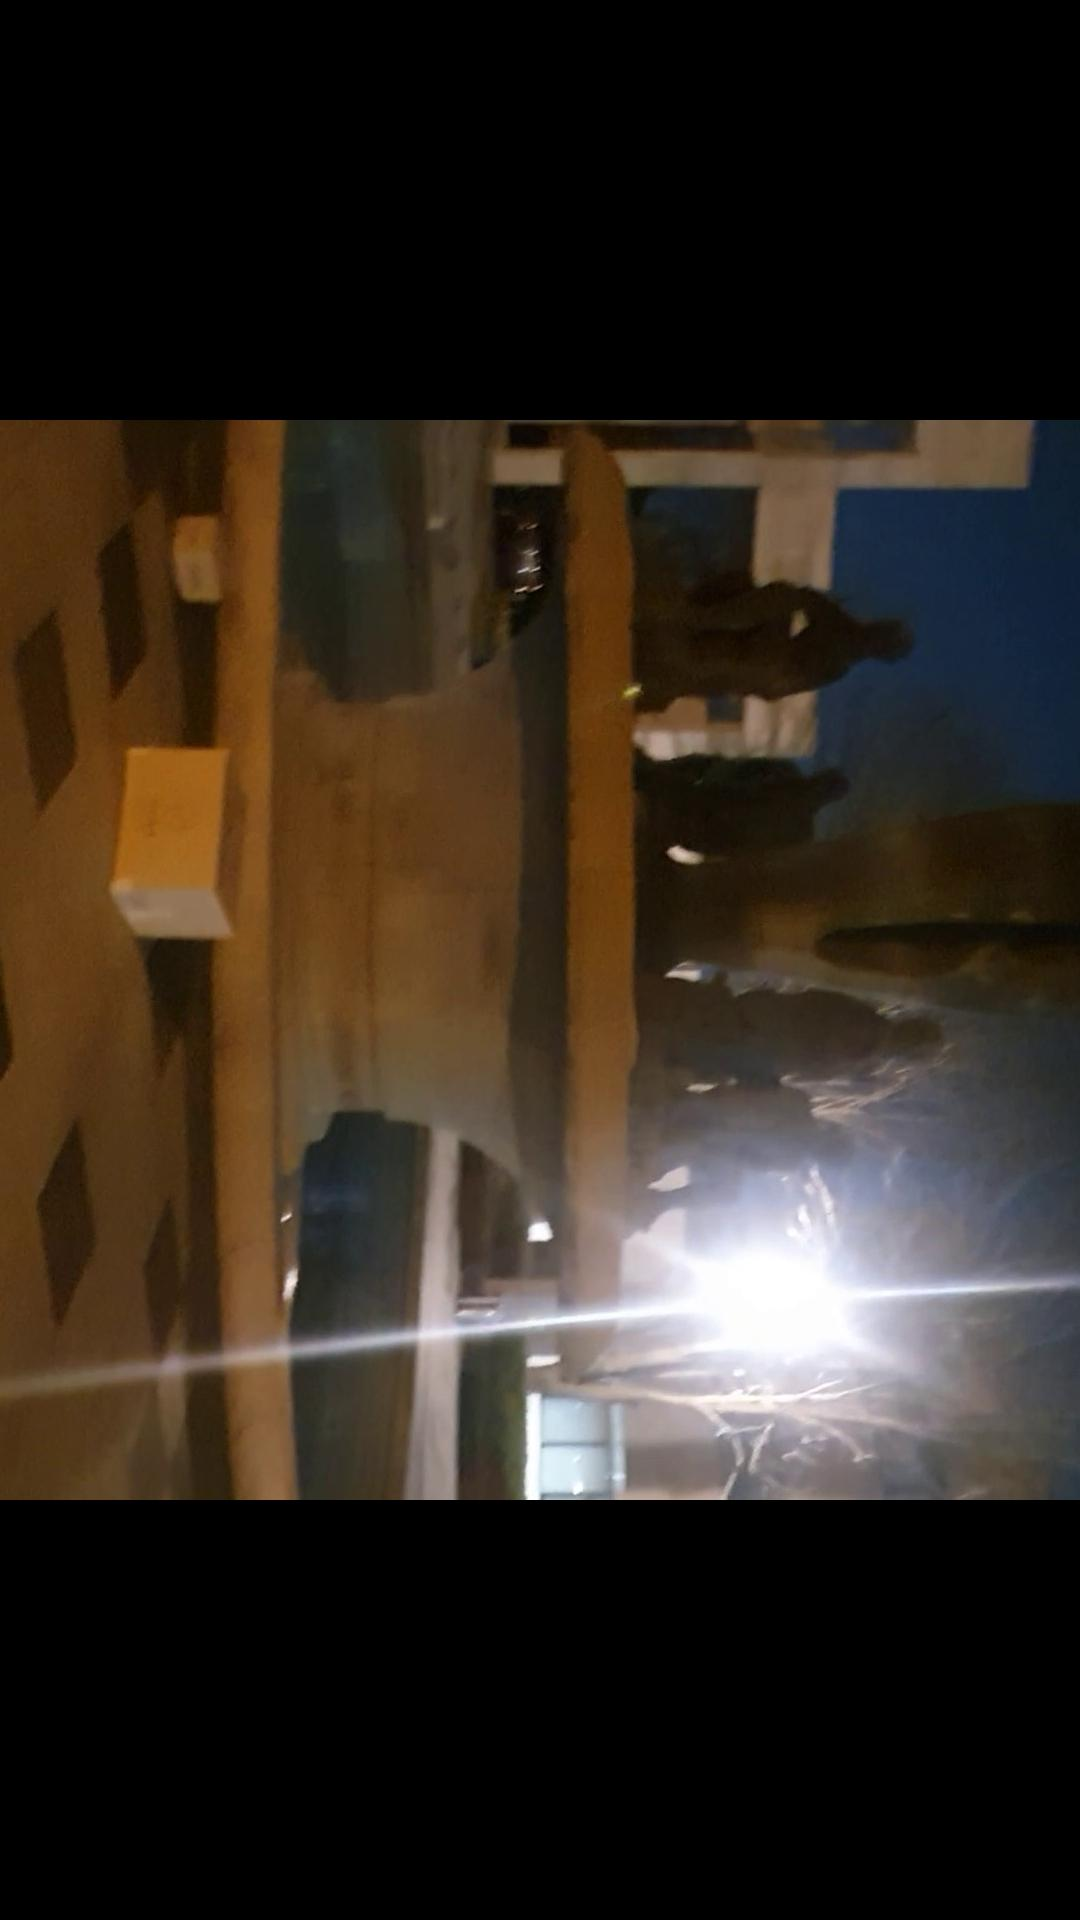Box: (98, 731, 251, 943), (167, 491, 245, 600)
